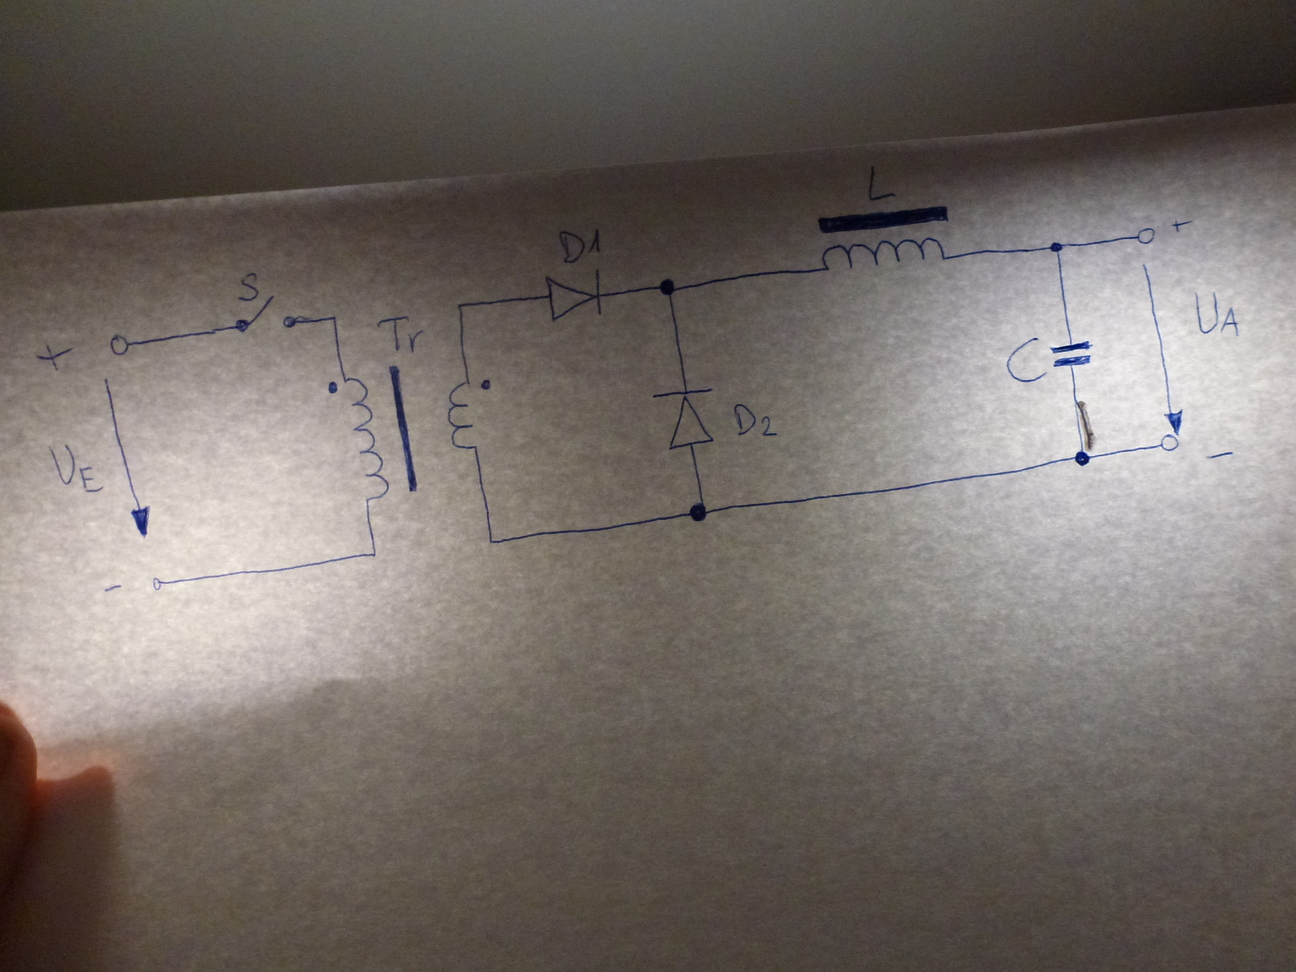capacitor.unpolarized: (1042, 341, 1100, 370)
diode: (651, 379, 720, 450), (542, 266, 604, 324)
inductor: (814, 203, 952, 276)
junction: (1070, 446, 1099, 469), (655, 274, 678, 299), (688, 500, 710, 525), (1045, 238, 1068, 257), (365, 545, 381, 563), (485, 534, 500, 548), (453, 299, 467, 312), (327, 312, 340, 325)
switch: (232, 291, 299, 336)
terminal: (106, 332, 134, 358), (1156, 429, 1183, 454), (1134, 223, 1159, 247), (149, 574, 166, 593)
text: (44, 438, 106, 497), (1190, 288, 1243, 339), (1003, 335, 1049, 387), (555, 223, 606, 265), (729, 402, 779, 439), (377, 315, 427, 352), (865, 161, 901, 203), (231, 270, 264, 304)
transformer: (322, 359, 498, 502)
